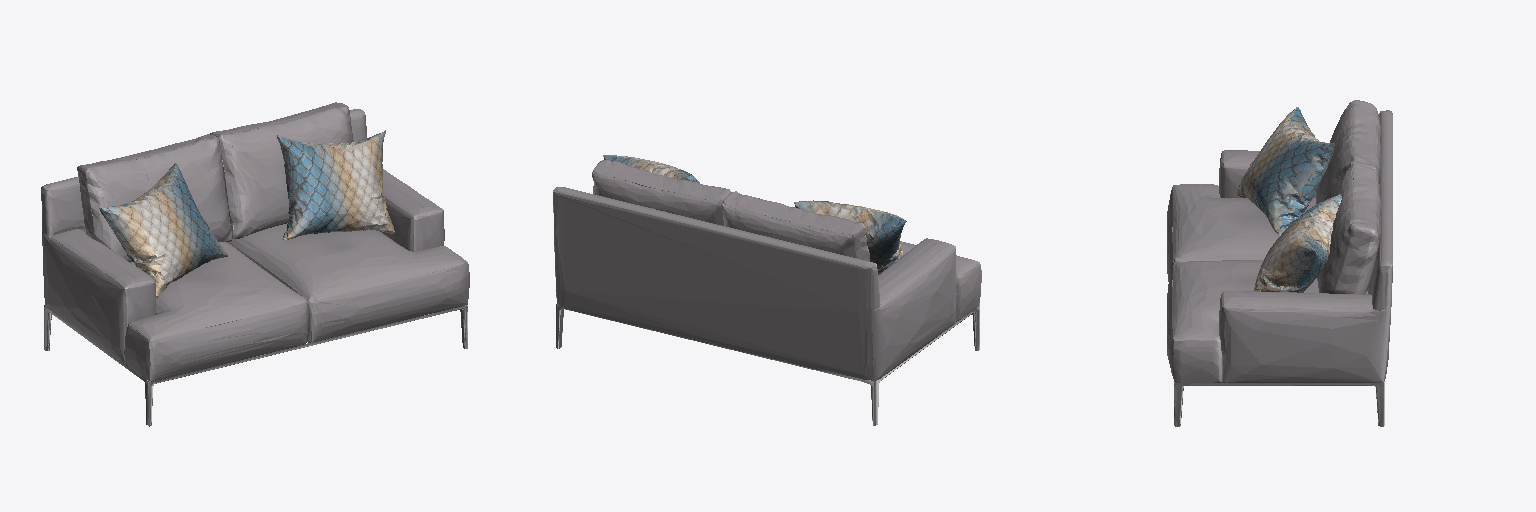
The picture shows the model from 3 angles: view 1: azimuth 30°, elevation 25°; view 2: azimuth 150°, elevation 25°; view 3: azimuth 270°, elevation 25°; orthographic projection.
Visible parts, largest first — view 1: solid_004, solid_003, solid_001; view 2: solid_004, solid_003, solid_001; view 3: solid_004, solid_003, solid_001.
Part boxes in pixels (x1,y1,x2,y2): solid_004: (41,102,469,381); solid_003: (99,130,394,298); solid_001: (44,305,467,425); solid_004: (553,160,981,380); solid_003: (603,155,906,274); solid_001: (556,304,979,425); solid_004: (1167,100,1392,382); solid_003: (1237,107,1341,292); solid_001: (1174,381,1384,426).
Bounding box in the file's own units: 1.93 × 1.04 × 1.14.
Materials: 1 (1 with a texture image).